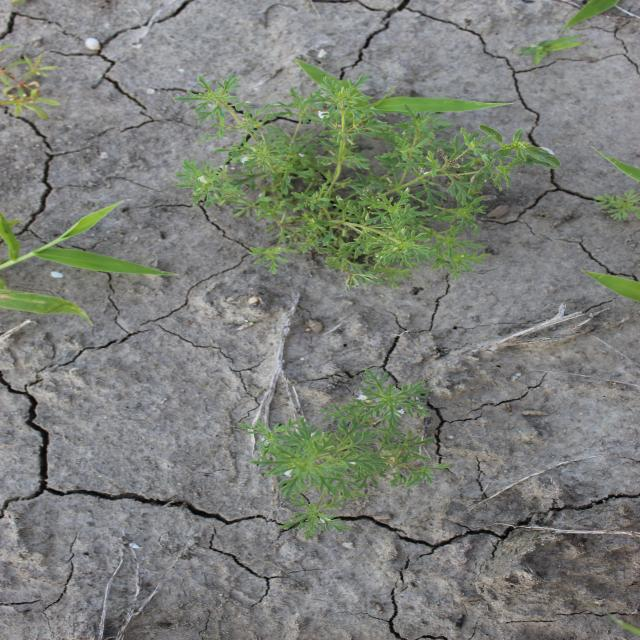Carpetweed: (0, 44, 66, 124)
Ragweed: (170, 72, 527, 292), (235, 368, 458, 542), (590, 187, 639, 222)
